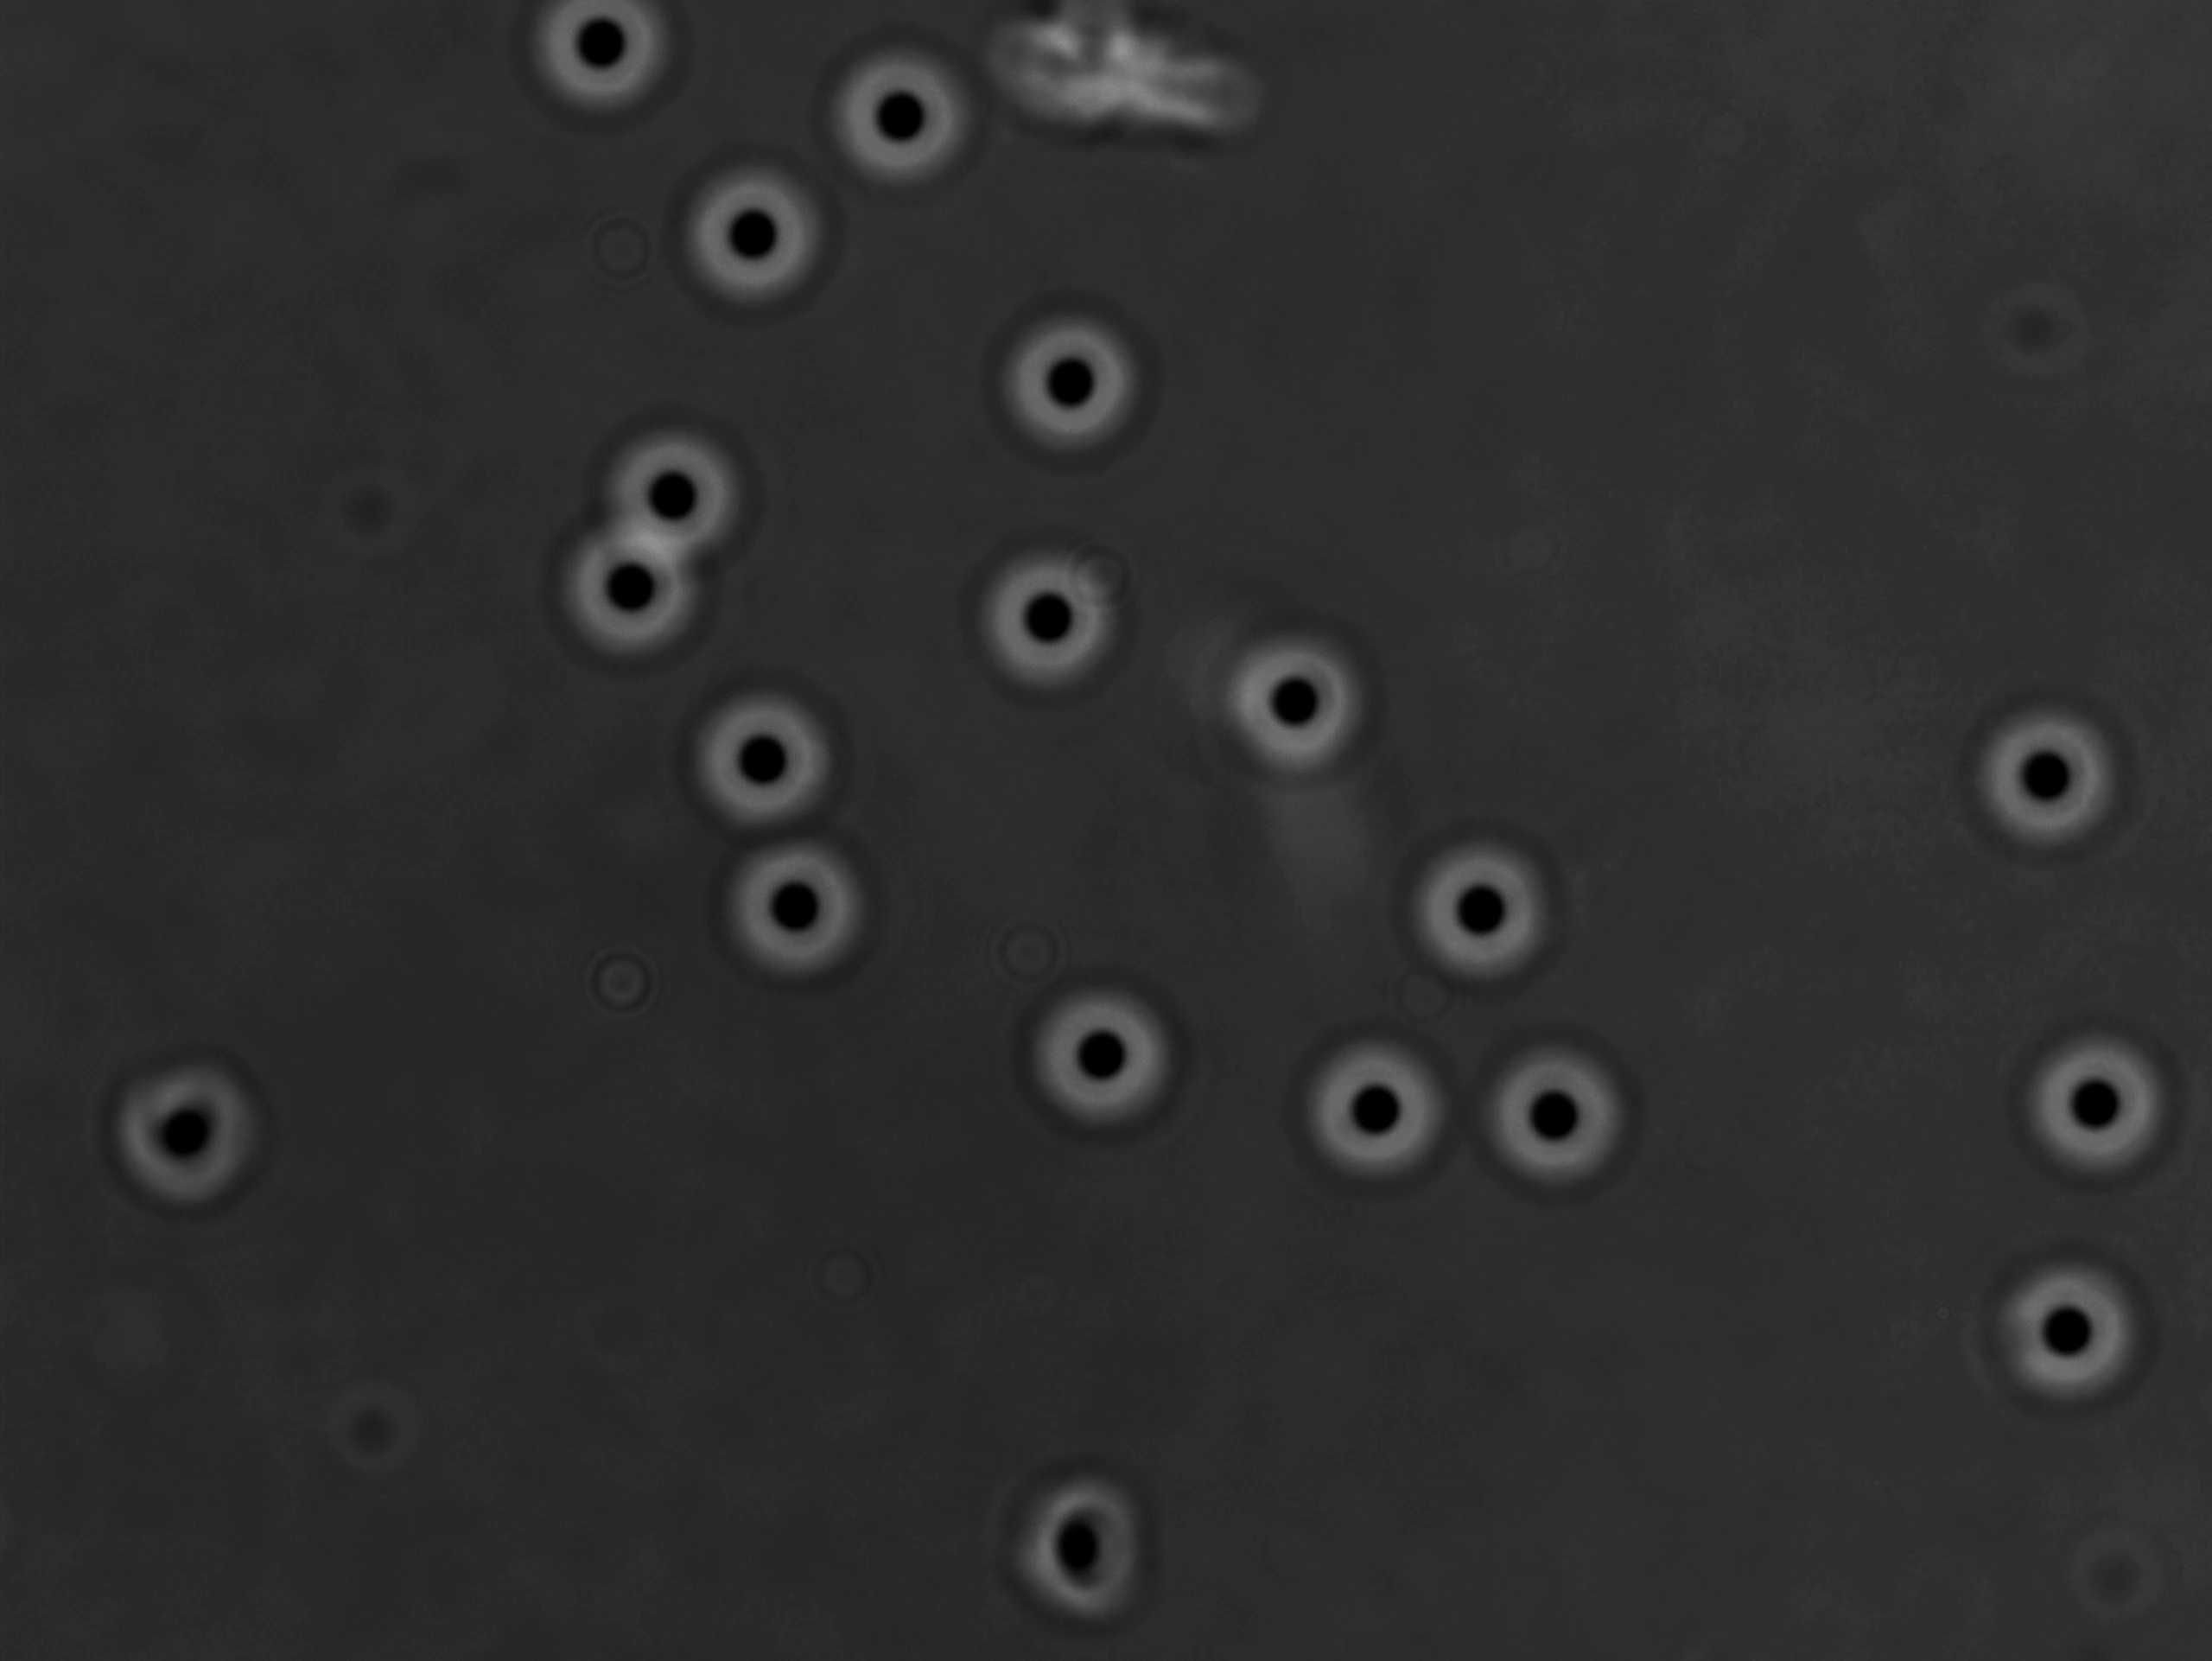depth:-40: (1980, 1239, 2175, 1410), (987, 298, 1164, 471), (673, 154, 855, 319), (2015, 1022, 2191, 1186), (1479, 1028, 1649, 1197), (1397, 829, 1574, 989), (961, 530, 1122, 696), (1968, 700, 2135, 857), (682, 682, 843, 839), (1218, 619, 1369, 785), (713, 839, 881, 989), (1021, 972, 1179, 1129), (546, 520, 705, 668), (598, 420, 750, 574), (823, 40, 977, 187)
